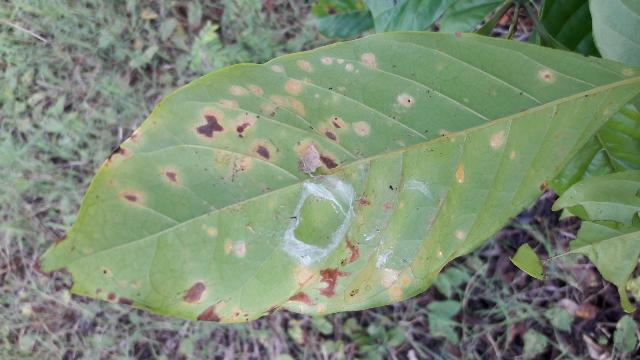red_spider_mite: (37, 31, 637, 323)
